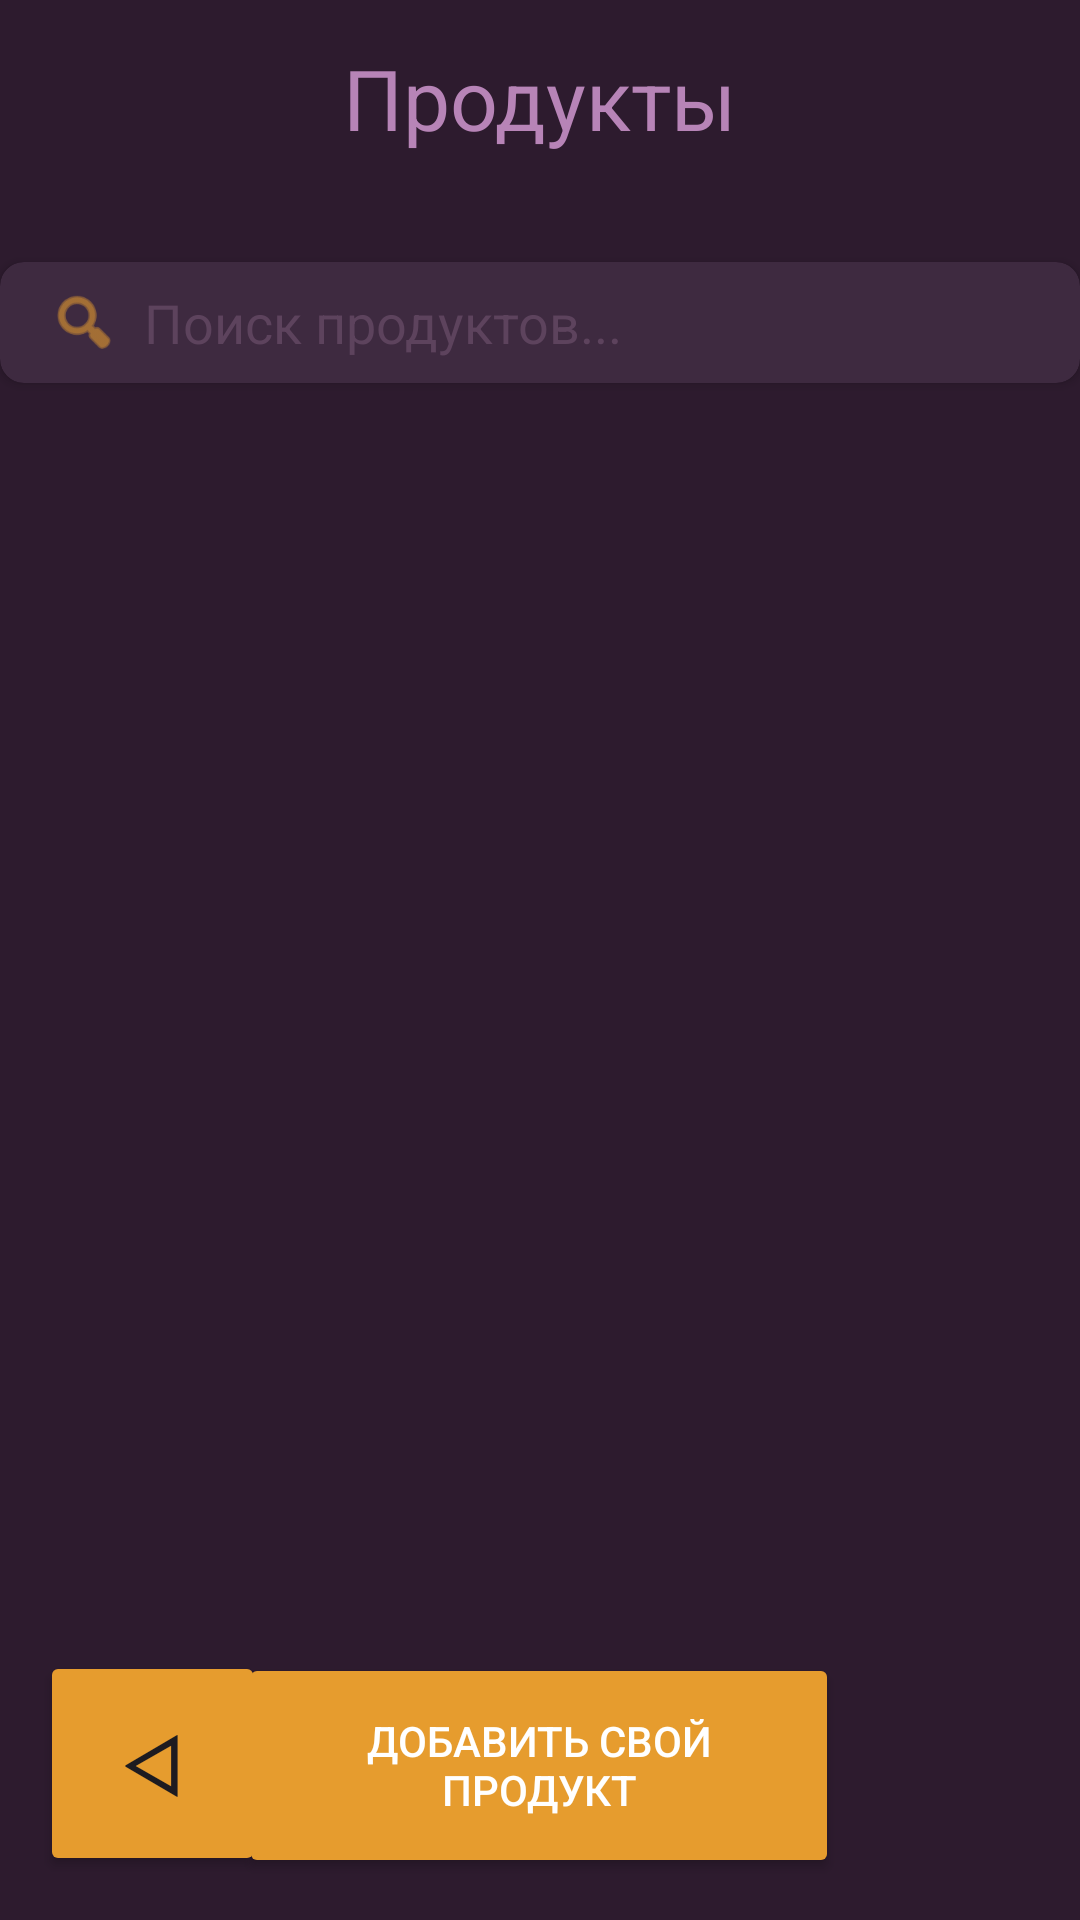

Screen size 1080x1920. Icon name, then its center in pixels as [x,y]:
search: [84,322]
